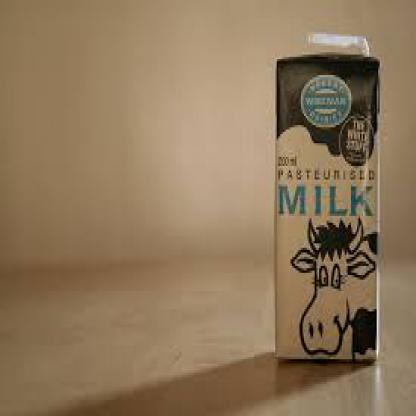CARDBOARD: (274, 54, 380, 362)
PLASTIC: (302, 30, 368, 50)
